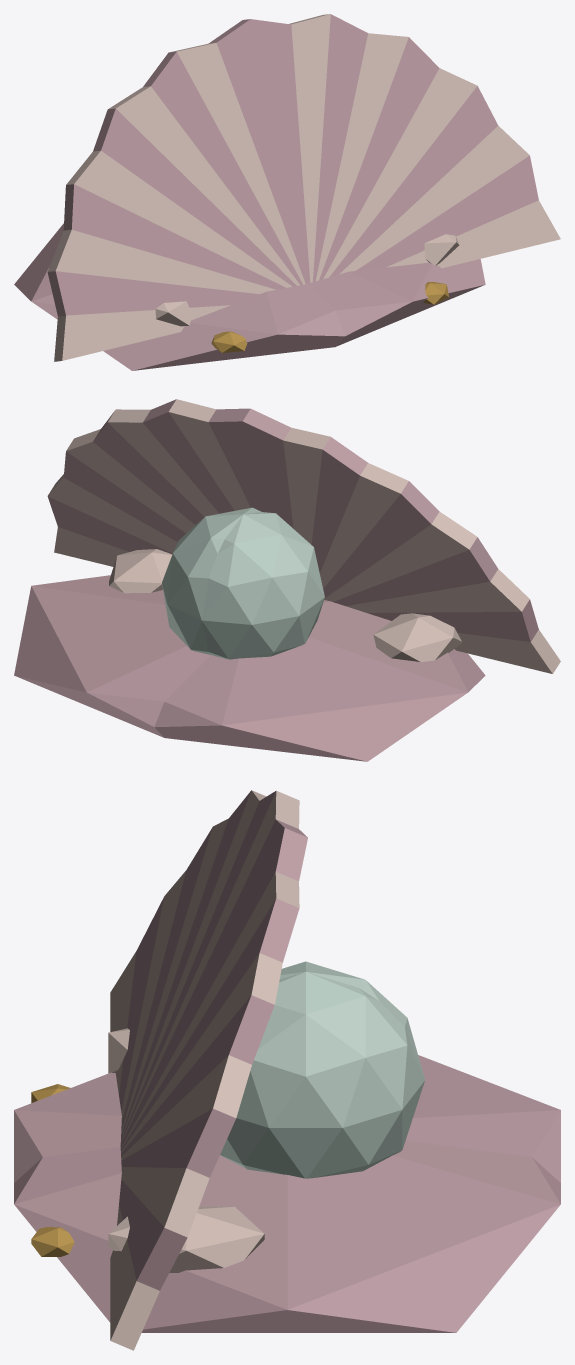
File: PirateCove_PearlClam_Showcase.glb
3 renders of one model, top to bottom at view 1: azimuth 30°, elevation 25°; view 2: azimuth 150°, elevation 25°; view 3: azimuth 270°, elevation 25°, orthographic. The views are drawn at different scales.
Parts seen in each view (by area): view 1: PirateCove_PearlClam_Showcase; view 2: PirateCove_PearlClam_Showcase; view 3: PirateCove_PearlClam_Showcase.
Part boxes in pixels (x1,y1,x2,y2): PirateCove_PearlClam_Showcase: (14, 14, 560, 370); PirateCove_PearlClam_Showcase: (14, 399, 560, 761); PirateCove_PearlClam_Showcase: (14, 790, 560, 1350).
Bounding box in the file's own units: 4.49 × 2.48 × 2.98.
